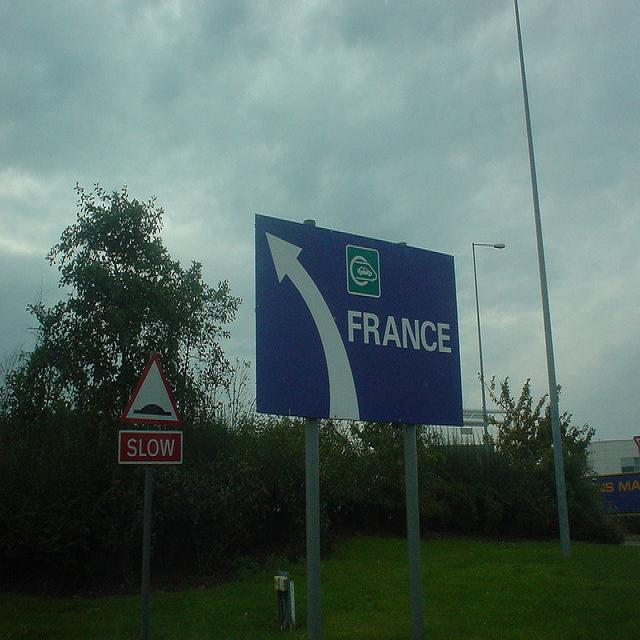Vehicle: (584, 472, 640, 516)
